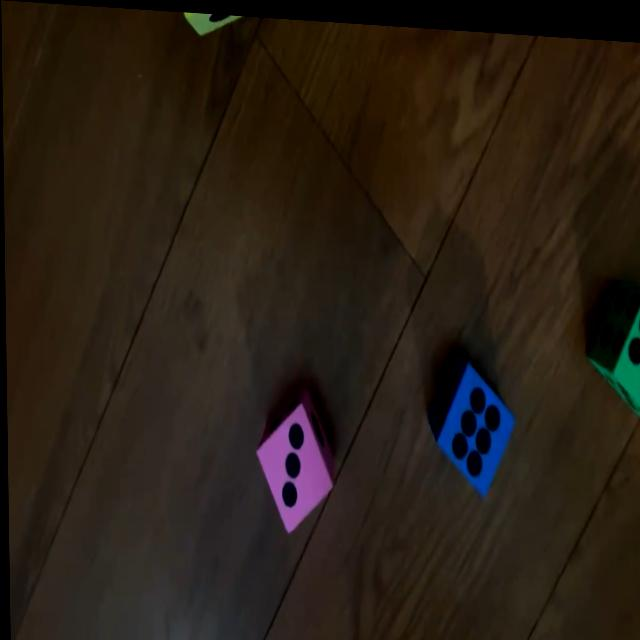cube: (426, 344, 513, 492), (587, 278, 640, 415)
